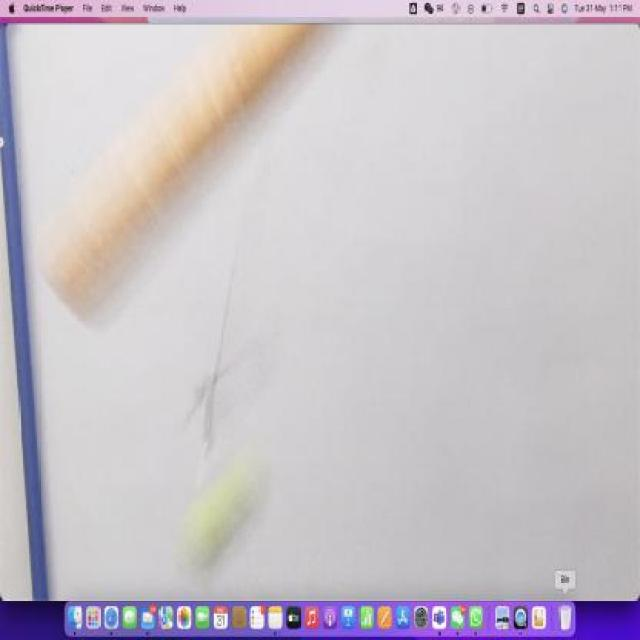baseball: (175, 452, 280, 573)
